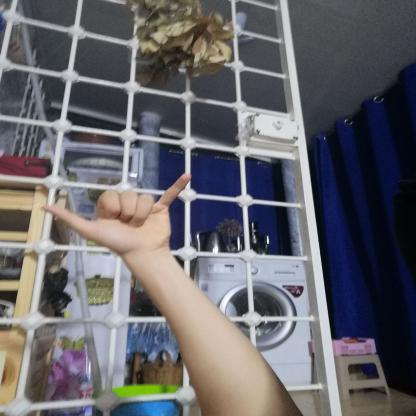YA: (30, 164, 204, 263)
